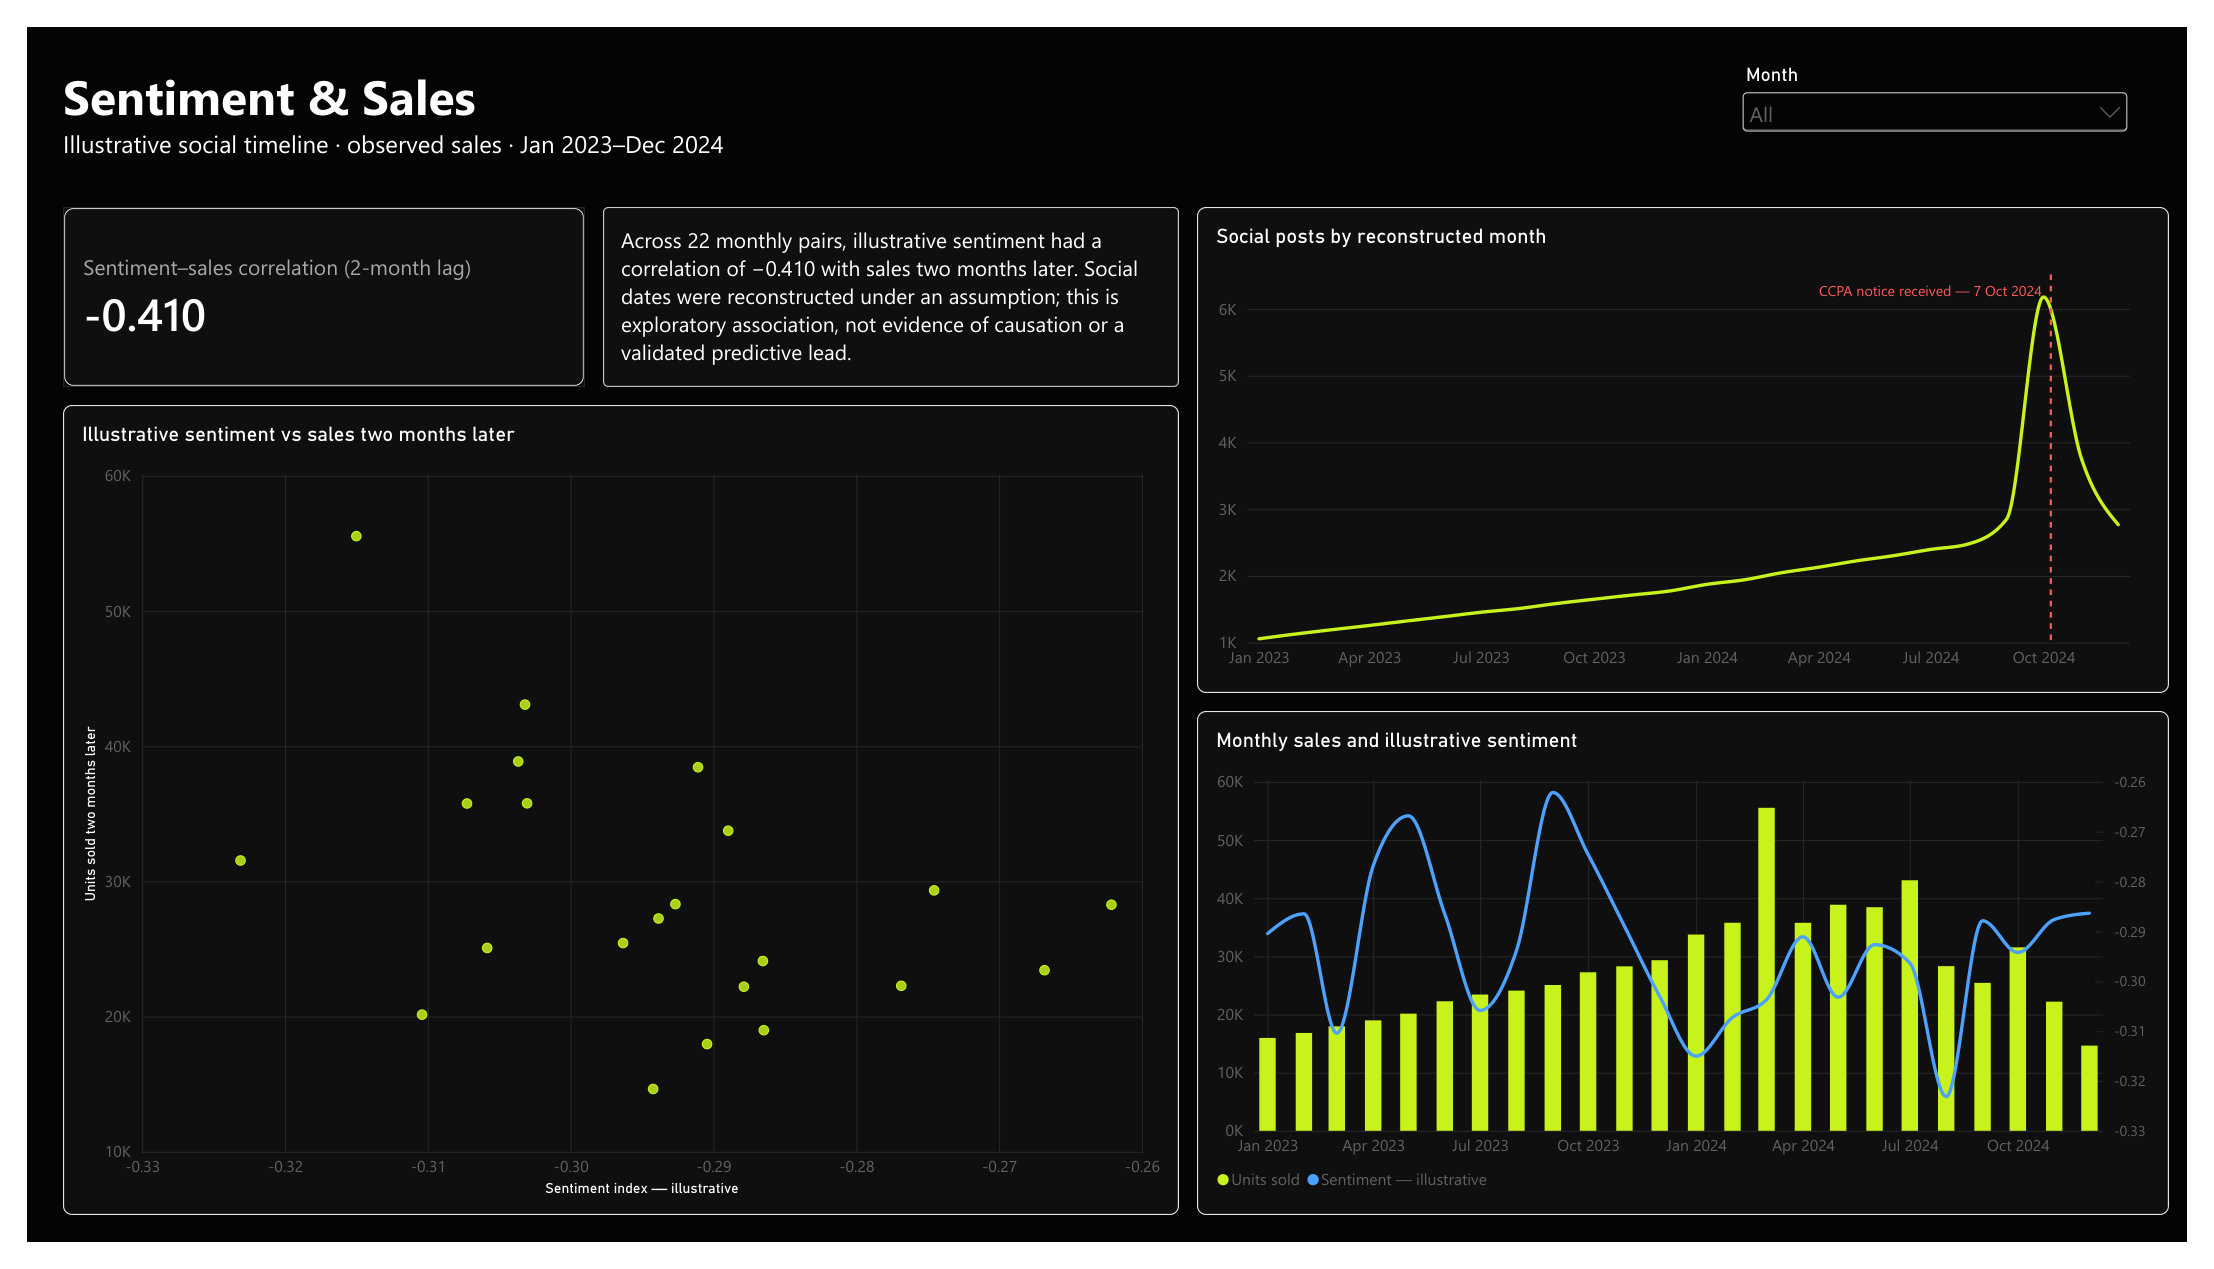

What the dashboard file says about the page in this screenshot:
{"tool":"powerbi","page":{"name":"Sentiment and Sales","canvas":[1920,1080],"ordinal":4},"visuals":[{"type":"lineClusteredColumnComboChart","title":"Monthly sales and illustrative sentiment","fields":{"Category":["ola_star vw_monthly_social_sales_illustrative.month_start"],"Y":["Sum(ola_star vw_monthly_social_sales_illustrative.monthly_units_sold)"],"Y2":["Avg(ola_star vw_monthly_social_sales_illustrative.sentiment_index_illustrative)"]},"box":[1040,608,864,448],"z":0},{"type":"lineChart","title":"Social posts by reconstructed month","fields":{"Category":["ola_star vw_monthly_social_sales_illustrative.month_start"],"Y":["Sum(ola_star vw_monthly_social_sales_illustrative.total_posts)"]},"box":[1040,160,864,432],"z":1000},{"type":"slicer","fields":{"Values":["ola_star vw_monthly_social_sales_illustrative.month_start"]},"box":[1520,32,352,96],"z":2000},{"type":"scatterChart","title":"Illustrative sentiment vs sales two months later","fields":{"Category":["ola_star vw_monthly_social_sales_illustrative.month_start"],"X":["Avg(ola_star vw_monthly_social_sales_illustrative.sentiment_index_illustrative)"],"Y":["Avg(ola_star vw_monthly_social_sales_illustrative.Sales Two Months Later)"]},"box":[32,336,992,720],"z":3000},{"type":"cardVisual","fields":{"Data":["ola_star vw_monthly_social_sales_illustrative.Illustrative Sentiment Lag 2 Correlation"]},"box":[32,160,464,160],"z":4000},{"type":"textbox","box":[32,32,608,96],"z":5000},{"type":"shape","box":[512,160,512,160],"z":6001},{"type":"textbox","box":[528,176,480,160],"z":6501}]}

Visuals, with their boxes in screenshot pixels (x1, y1, x2, y2), scaled from the page's 1920x1080 canvas onto the 2214x1269 screenshot:
"Monthly sales and illustrative sentiment" lineClusteredColumnComboChart: rect(1199, 714, 2196, 1241)
"Social posts by reconstructed month" lineChart: rect(1199, 188, 2196, 696)
slicer - ola_star vw_monthly_social_sales_illustrative.month_start: rect(1753, 38, 2159, 150)
"Illustrative sentiment vs sales two months later" scatterChart: rect(37, 395, 1181, 1241)
cardVisual - ola_star vw_monthly_social_sales_illustrative.Illustrative Sentiment Lag 2 Correlation: rect(37, 188, 572, 376)
textbox: rect(37, 38, 738, 150)
shape: rect(590, 188, 1181, 376)
textbox: rect(609, 207, 1162, 395)
